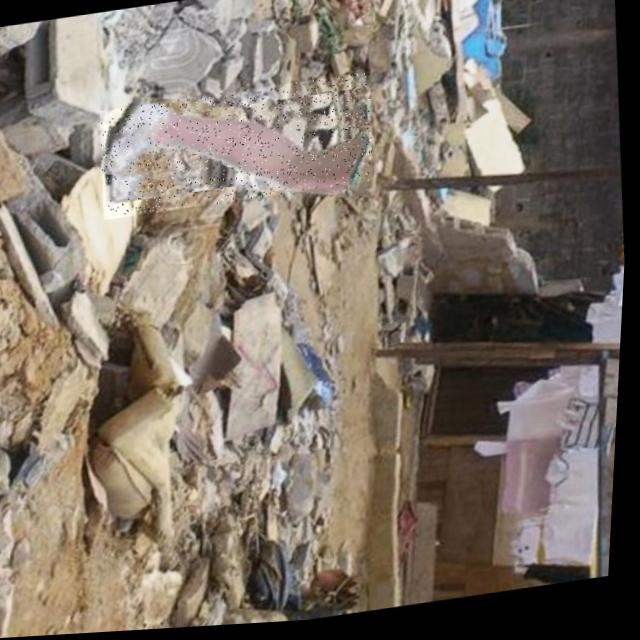Person in Rubble: (95, 76, 379, 222)
